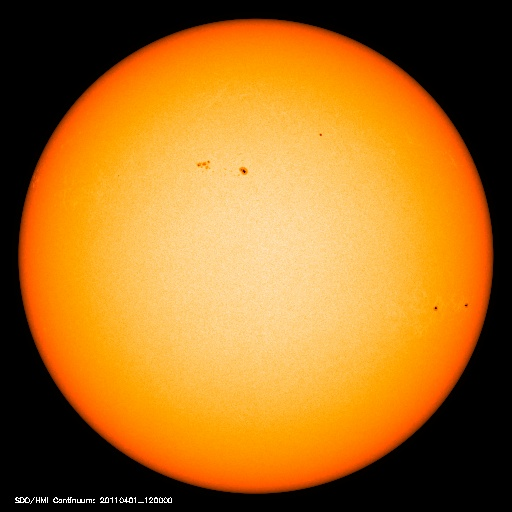sunspot: (186, 154, 256, 184), (424, 294, 476, 320), (306, 123, 335, 147)
